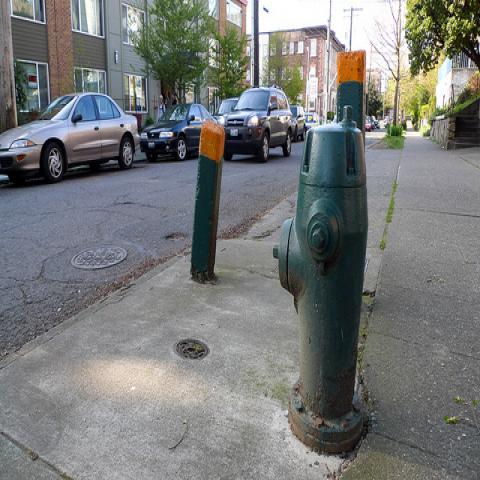car: (0, 90, 141, 185), (217, 85, 293, 164), (140, 104, 218, 162), (213, 96, 238, 121), (291, 106, 306, 142), (304, 112, 320, 130), (368, 113, 378, 126), (365, 118, 372, 133), (382, 121, 387, 126)
